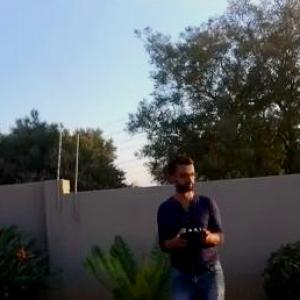follow: (154, 146, 234, 299)
